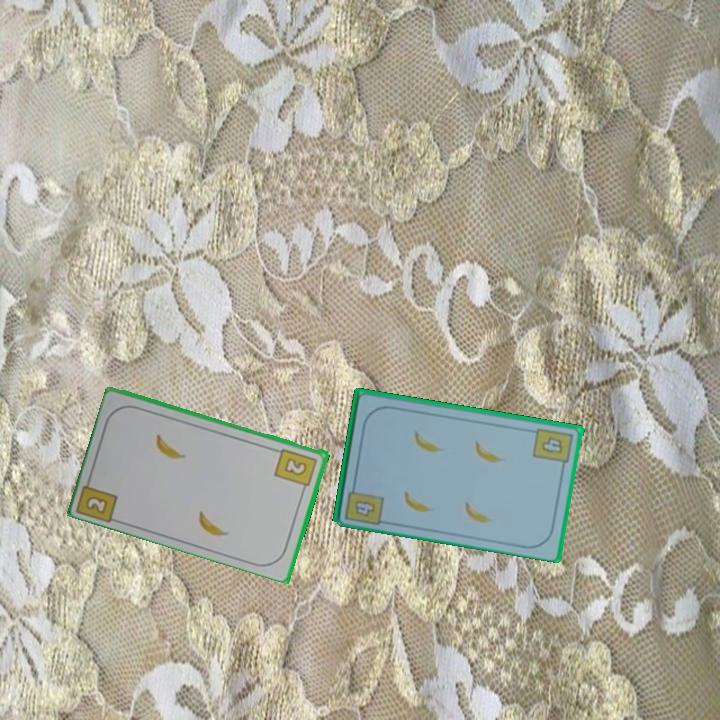2b: (271, 444, 320, 494), (82, 492, 111, 517)
4b: (530, 424, 576, 472), (341, 478, 386, 527)
